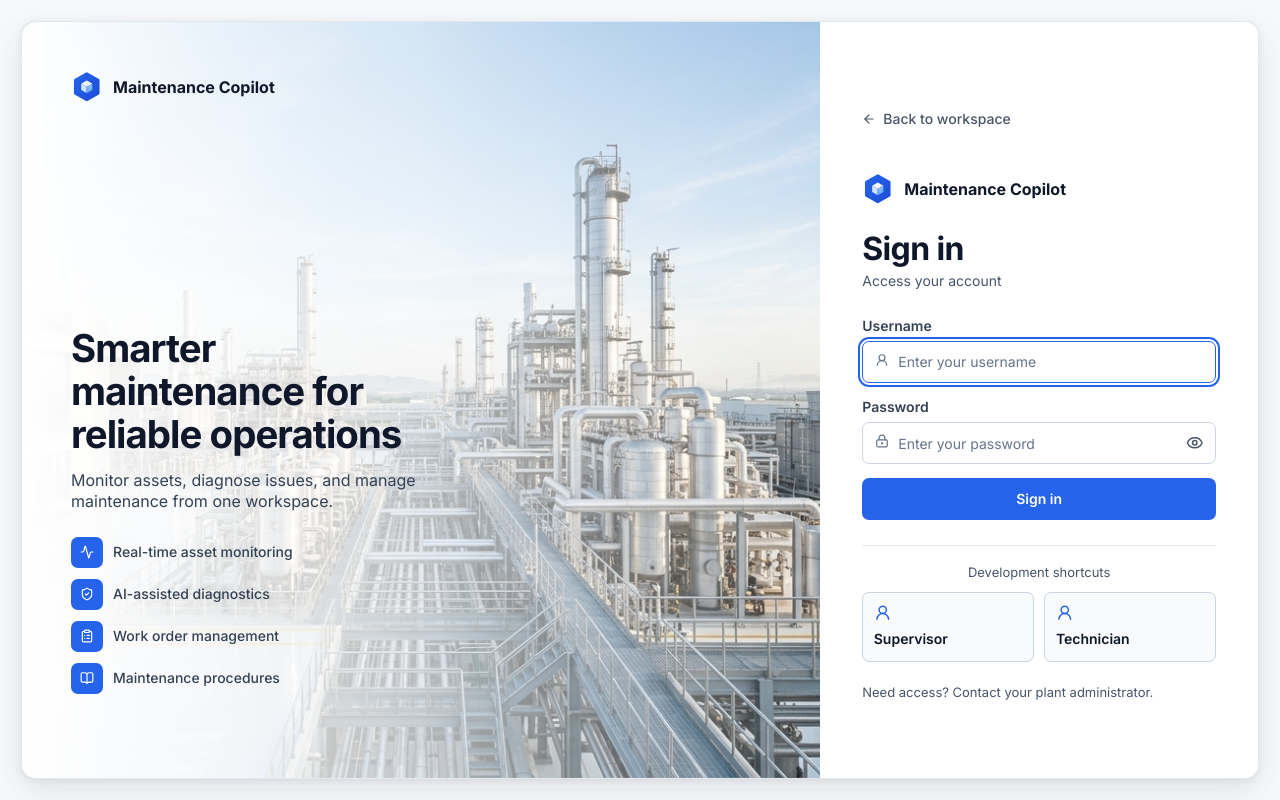
Test case: SignInPage › warns when Caps Lock is on
The image size is (1280, 800).
Click the password field labelled "Password" at point(1039, 443), box 862,422 -> 1216,464
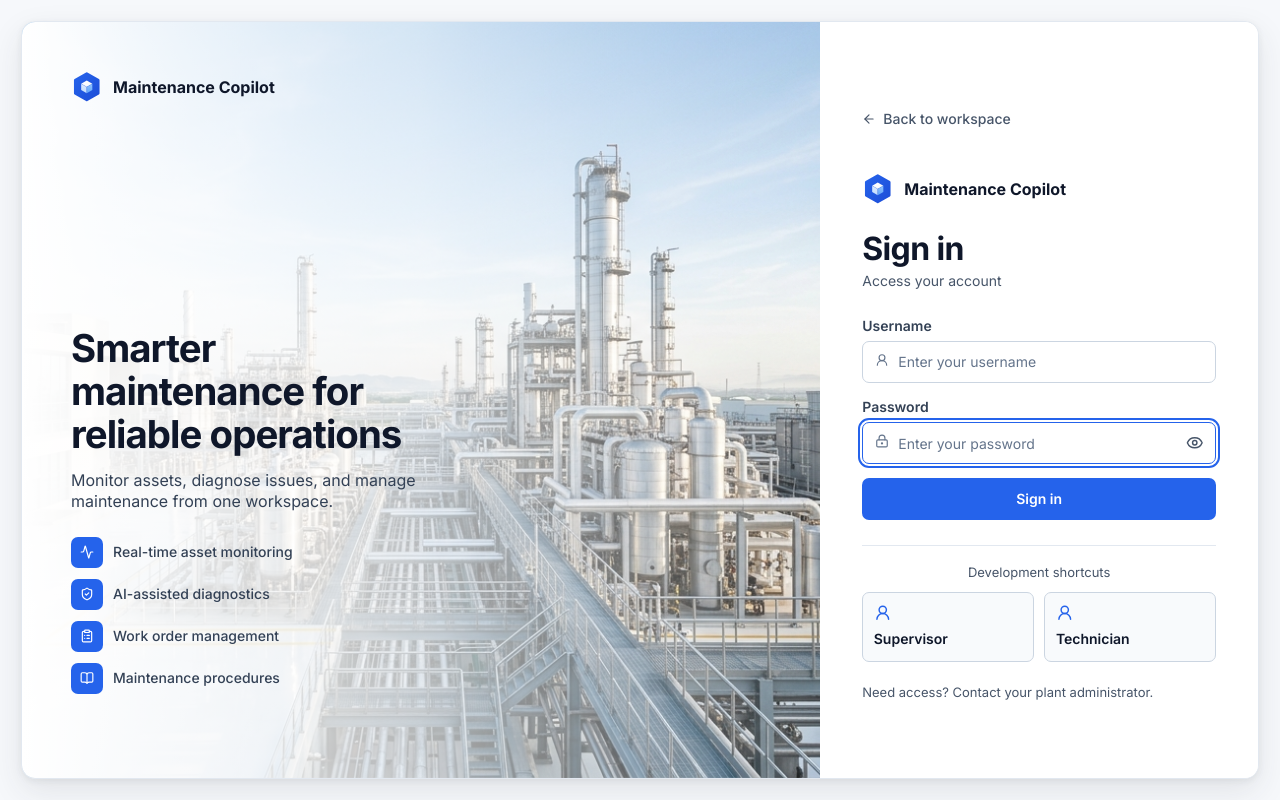
Type keys "{CapsLock}A"
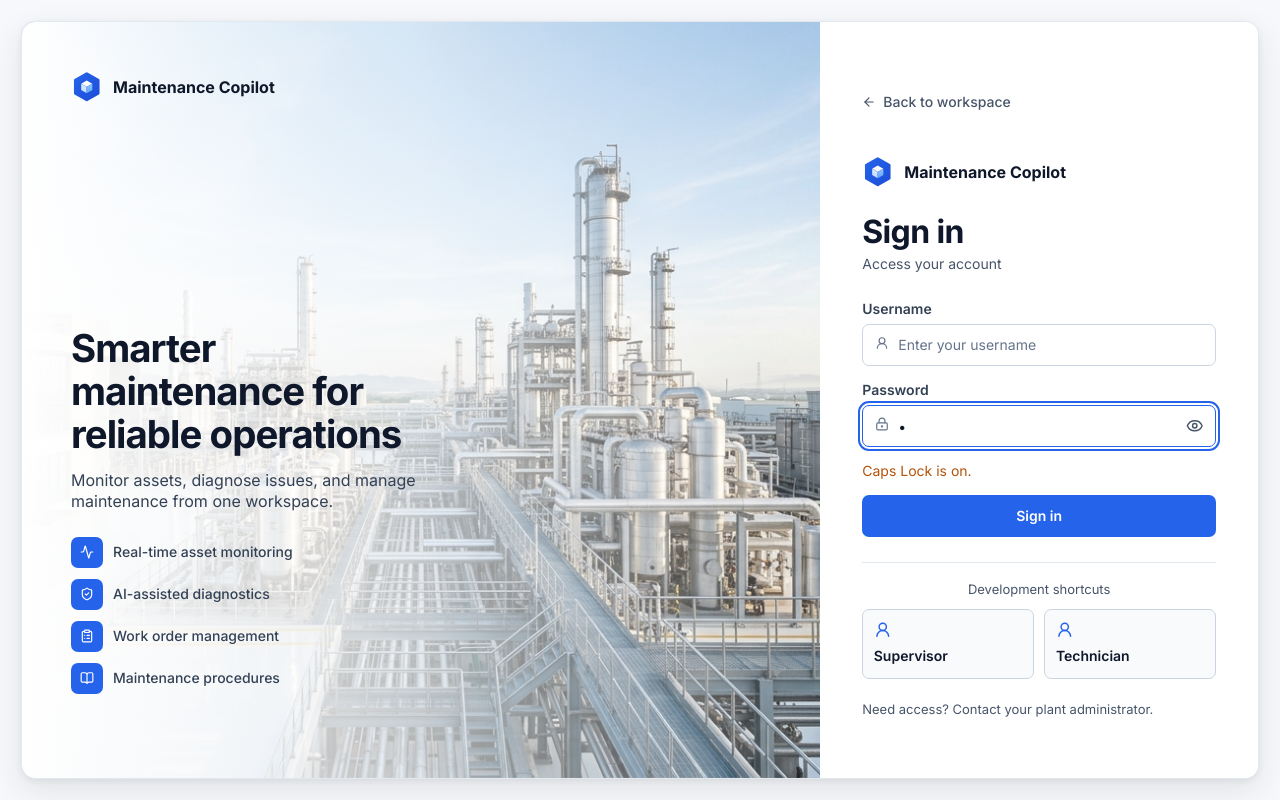
Check: the text "Caps Lock is on." is shown, box 862,462 -> 972,479
